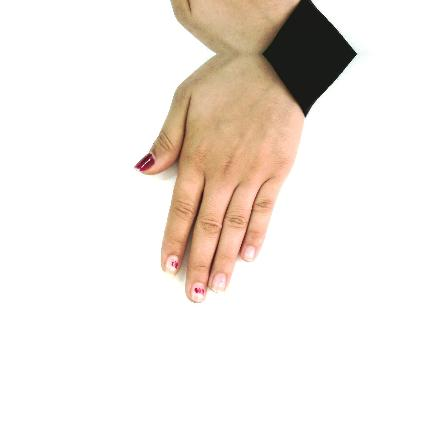Nail: (134, 153, 155, 171), (164, 255, 180, 275), (211, 273, 227, 292), (191, 283, 205, 303), (244, 246, 255, 261)
